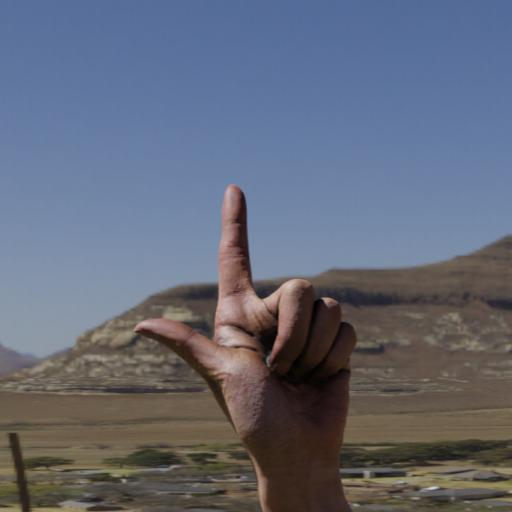L: (119, 156, 396, 509)
